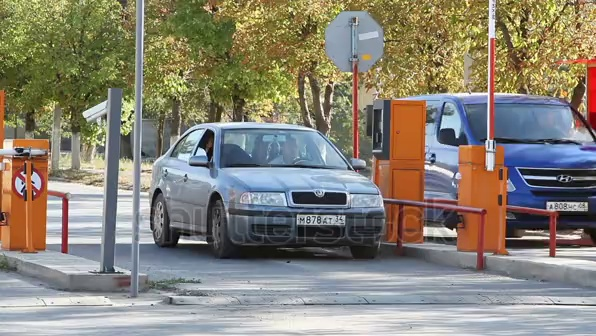licenseplate: (299, 211, 350, 227), (549, 201, 592, 214)
